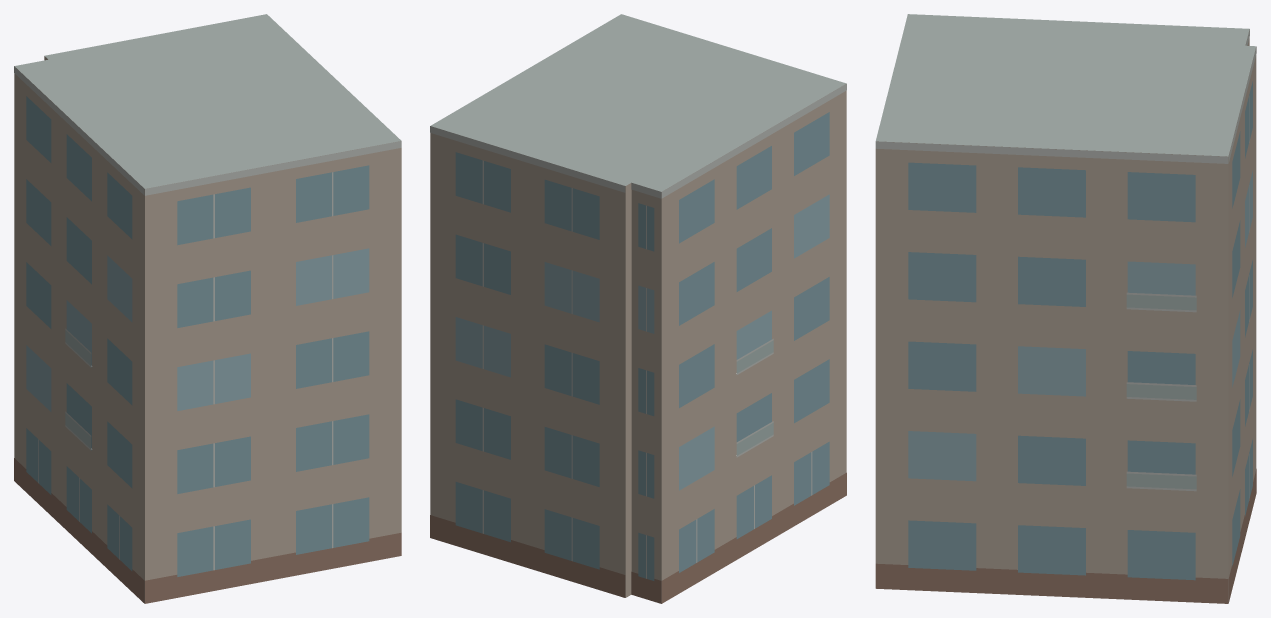
File: survey-upis-32705486.glb
3 renders of one model, left to right at view 1: azimuth 30°, elevation 25°; view 2: azimuth 150°, elevation 25°; view 3: azimuth 270°, elevation 25°, orthographic. The views are drawn at different scales.
Parts seen in each view (by area): view 1: survey-upis-32705486.tmp; view 2: survey-upis-32705486.tmp; view 3: survey-upis-32705486.tmp.
Part boxes in pixels (box(x1,y1,x2,y2)): survey-upis-32705486.tmp: box(14, 14, 401, 603); survey-upis-32705486.tmp: box(430, 14, 846, 603); survey-upis-32705486.tmp: box(875, 14, 1256, 603).
Bounding box in the file's own units: 9.98 × 14.6 × 11.27.
